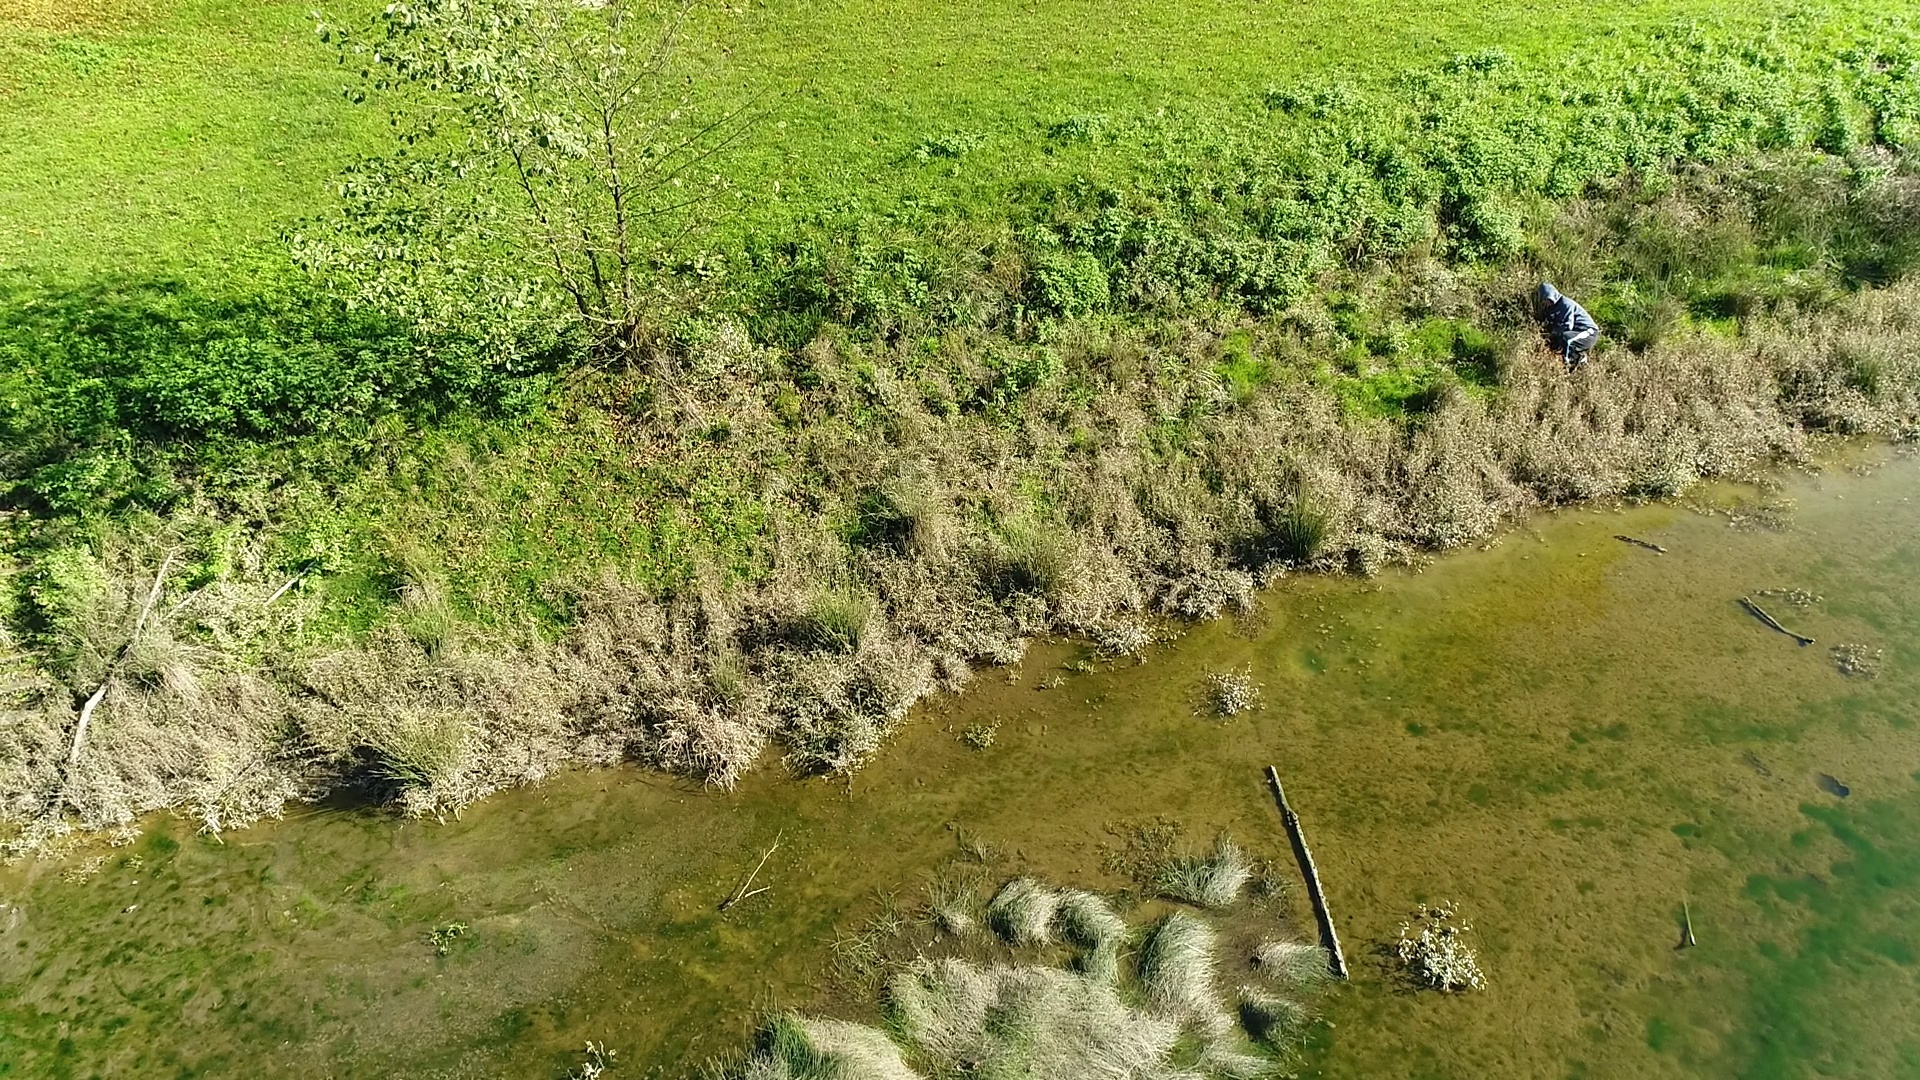not_defined: (1539, 280, 1602, 372)
